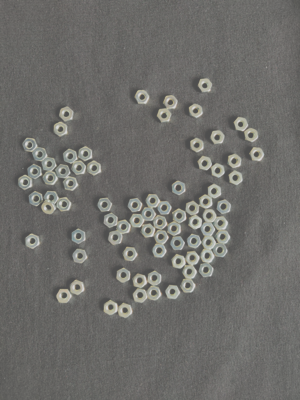nut: (28, 191, 44, 207), (59, 106, 75, 122), (197, 156, 213, 172), (118, 303, 133, 319), (146, 286, 162, 301), (165, 285, 181, 300), (132, 274, 148, 289), (116, 268, 131, 284), (72, 249, 88, 264), (122, 247, 138, 262), (25, 234, 40, 250), (71, 229, 86, 245), (108, 230, 123, 246), (141, 223, 156, 239), (127, 198, 143, 213), (172, 208, 187, 224), (41, 200, 57, 215), (56, 197, 72, 212), (18, 175, 33, 191), (63, 177, 79, 192), (43, 171, 59, 186), (28, 164, 43, 180), (71, 161, 87, 176), (32, 147, 48, 162), (22, 138, 38, 153), (249, 147, 265, 162), (134, 90, 150, 105), (70, 280, 85, 295), (133, 289, 148, 304), (199, 263, 214, 278), (185, 251, 200, 266), (213, 243, 228, 258), (187, 234, 202, 249), (153, 215, 168, 230), (188, 215, 203, 230), (217, 200, 232, 215), (42, 157, 57, 172), (63, 149, 78, 164), (53, 122, 68, 137), (227, 154, 242, 169), (244, 128, 259, 143), (234, 117, 249, 132), (198, 78, 213, 93), (56, 289, 72, 303), (104, 300, 118, 316), (180, 279, 196, 293), (172, 254, 186, 270), (215, 230, 231, 244), (104, 213, 118, 229), (97, 198, 113, 212), (129, 214, 145, 228), (211, 163, 225, 179), (148, 271, 162, 286), (200, 249, 215, 263), (152, 244, 167, 258), (202, 236, 217, 250), (117, 220, 131, 235), (154, 230, 169, 244), (168, 222, 182, 237), (201, 223, 216, 237), (185, 201, 199, 216), (157, 201, 172, 215), (146, 194, 161, 208), (172, 181, 186, 196), (199, 195, 213, 210), (208, 184, 222, 199), (56, 165, 71, 179), (87, 161, 101, 176), (229, 171, 243, 186), (190, 138, 204, 153), (210, 131, 225, 145), (189, 104, 203, 119), (157, 109, 172, 123), (163, 96, 178, 110), (182, 266, 198, 279), (169, 237, 185, 250), (141, 208, 157, 221), (213, 217, 229, 230), (202, 210, 217, 223), (44, 191, 59, 204), (79, 147, 93, 160)
